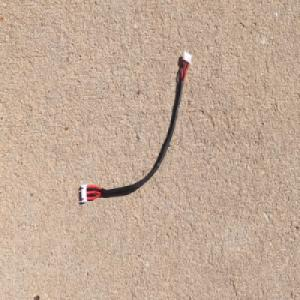Wire: (79, 48, 195, 210)
